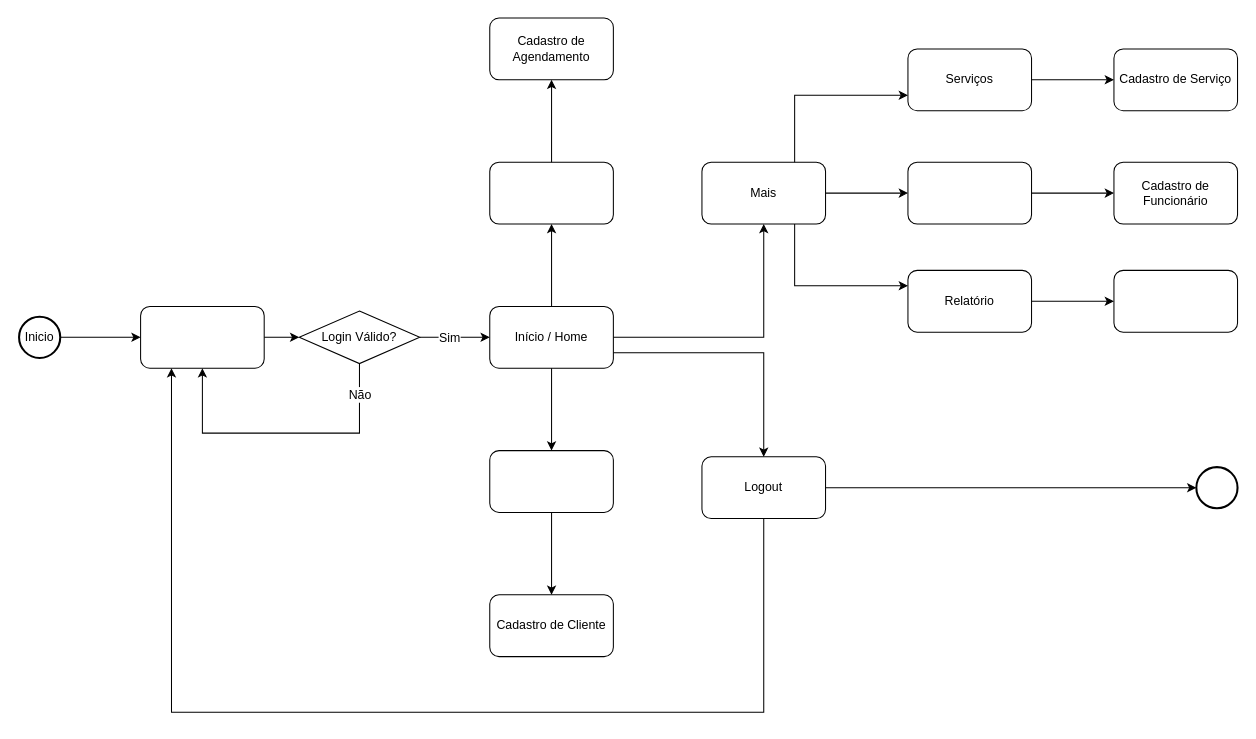
Some shapes in this 1256 by 739 pixel diagram are drawn without their labels. Here are the shapes that lost their labels. From the top down, the centre of each, then its label:
At (551,192): "Agenda".
At (969,192): "Equipe".
At (1175,300): "Exportar PDF".
At (202,336): "Login".
At (551,481): "Clientes".
At (1216,487): "Fim".
